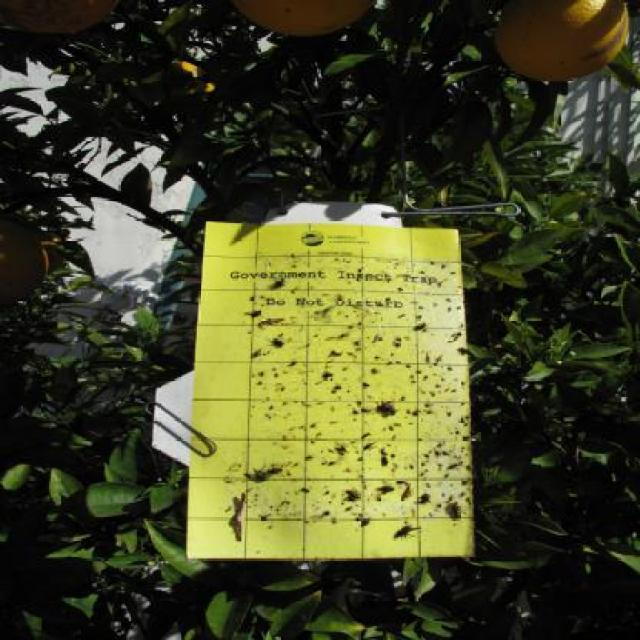Orange: (496, 0, 636, 85), (232, 0, 370, 40)
